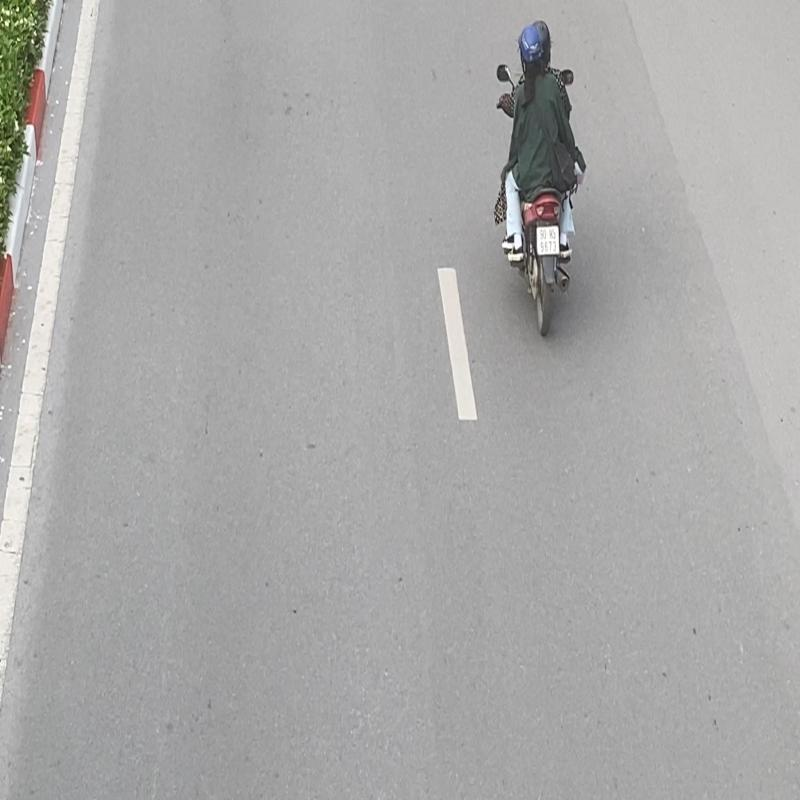helmet: (532, 19, 552, 60), (519, 24, 540, 62)
licenseplate: (536, 226, 560, 255)
motorcyclist: (492, 15, 591, 342)
